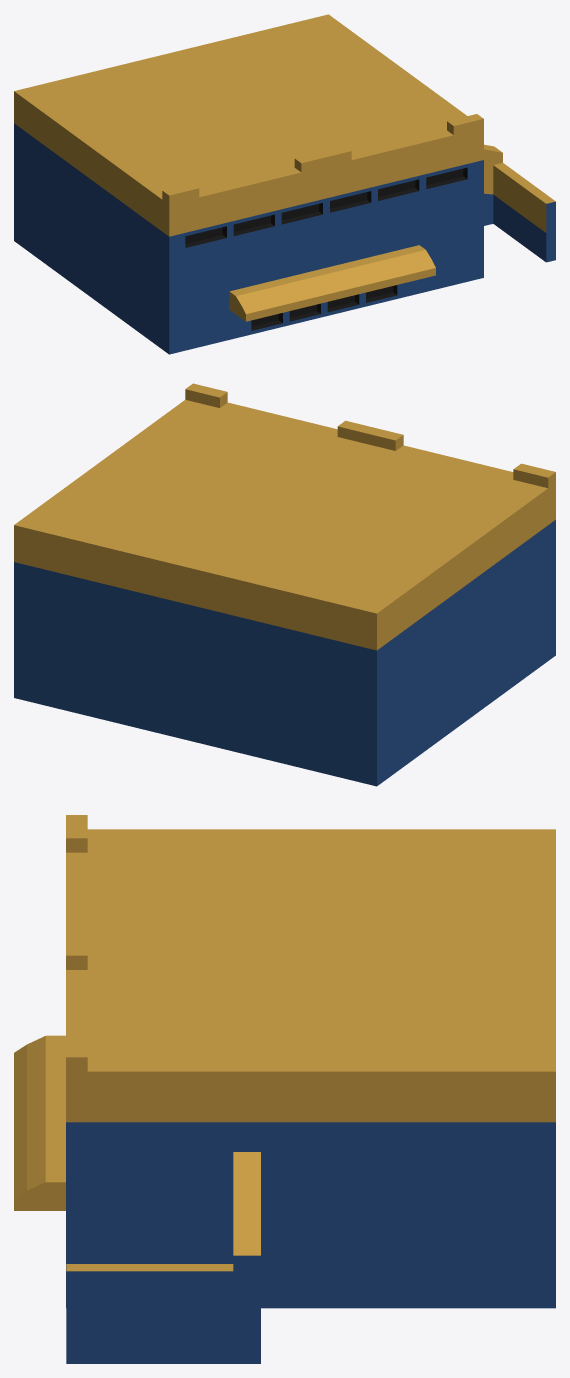
The model's file is loja_29.fbx.
3 views of the same model, one above another, from view 1: azimuth 30°, elevation 25°; view 2: azimuth 150°, elevation 25°; view 3: azimuth 270°, elevation 25° (orthographic). The views are drawn at different scales.
Parts seen in each view (by area): view 1: Cube; view 2: Cube; view 3: Cube.
Boxes of the visible parts, x1,y1,x2,y2 form: Cube: [14, 14, 555, 354]; Cube: [14, 383, 555, 786]; Cube: [14, 815, 555, 1363].
Size of the model in its own units: 1722 by 676 by 1324.
